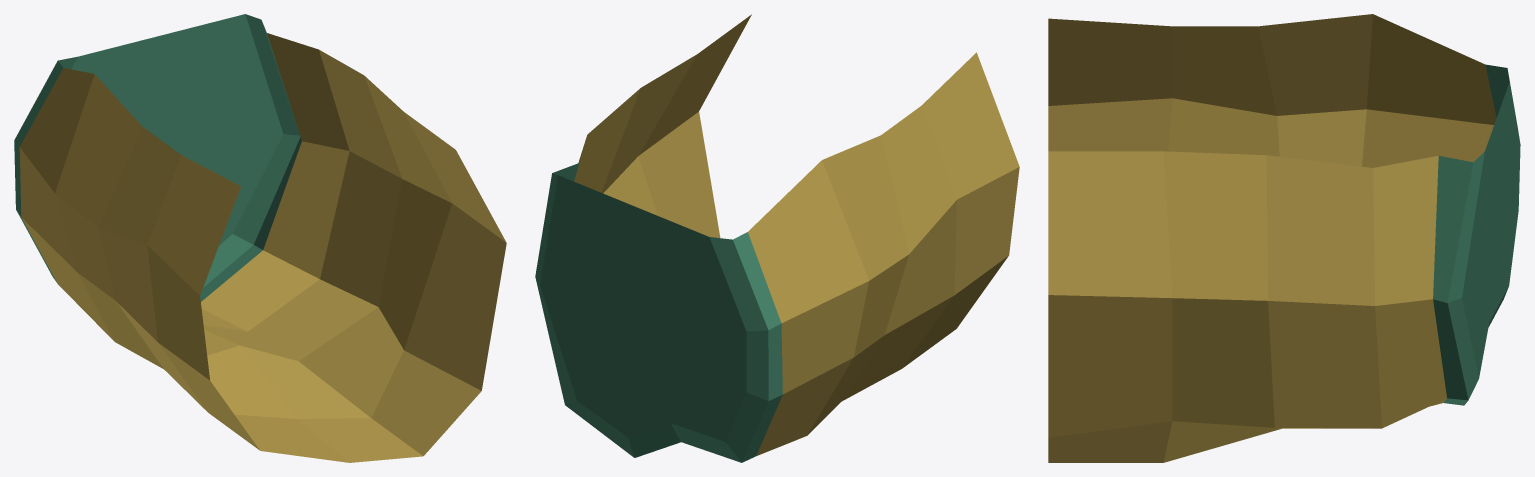
Rendered from Cliff_4_B.fbx.
3 views of the same model, side by side, from view 1: azimuth 30°, elevation 25°; view 2: azimuth 150°, elevation 25°; view 3: azimuth 270°, elevation 25° (orthographic). The views are drawn at different scales.
Visible parts, largest first — view 1: Cliff_4_B.001; view 2: Cliff_4_B.001; view 3: Cliff_4_B.001.
Part boxes in pixels (x1=…): Cliff_4_B.001: x1=14, y1=14, x2=506, y2=462; Cliff_4_B.001: x1=535, y1=14, x2=1019, y2=462; Cliff_4_B.001: x1=1048, y1=14, x2=1520, y2=462.
Size of the model in its own units: 6.3 by 6.21 by 7.57.
